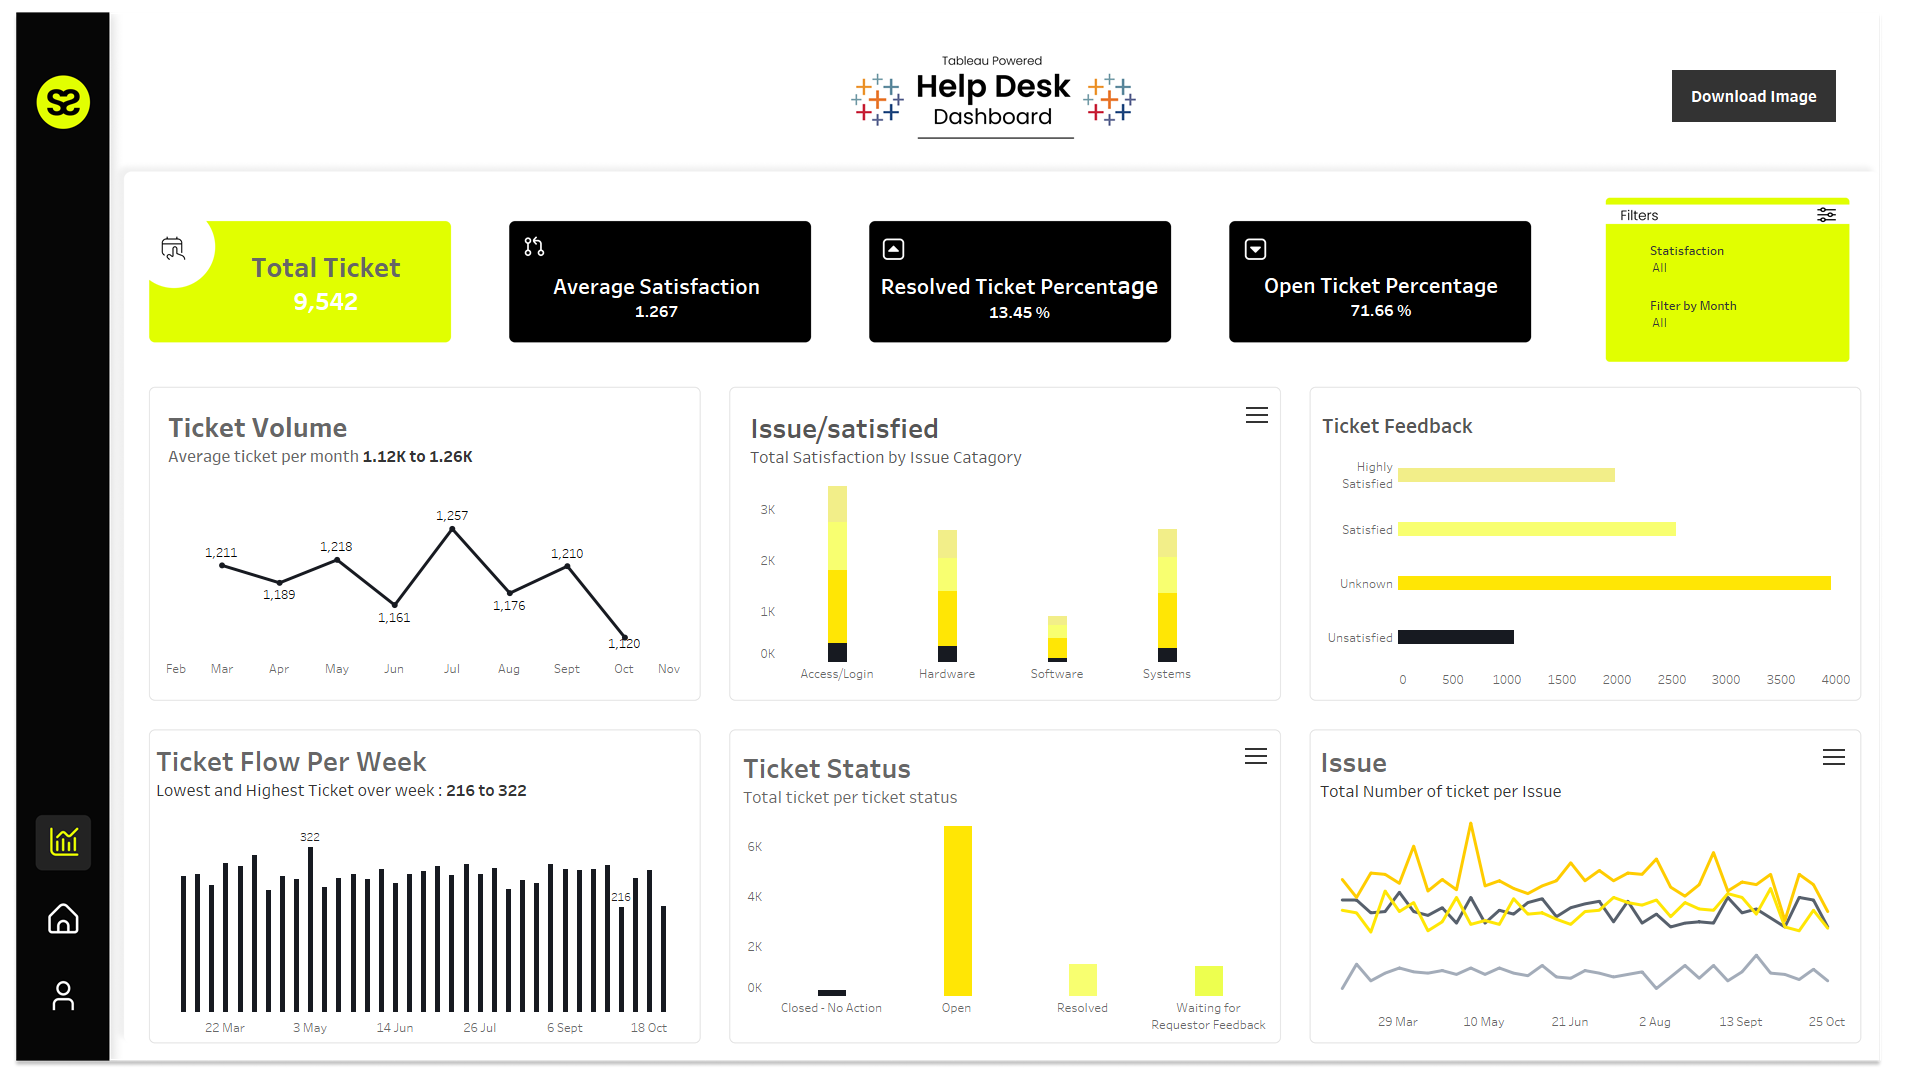

Layout of this report page (visuals, bound fields, positions):
{"tool":"tableau","page":{"name":"Dashboard 1","canvas":[1920,1080],"ordinal":0},"visuals":[{"type":"image","param":"Image/Tablue Dashboard -1.png","box":[8,8,1904,1064]},{"type":"dashboard-object","box":[1672,70,164,52]},{"type":"filter","title":"Satisfied","param":"[federated.014lvfq0gvesqk14qfeje18m9ve7].[none:statisfaction:nk]","box":[1650,241,160,119]},{"type":"worksheet","title":"Sheet 8","mark":"Automatic","box":[222,242,208,84]},{"type":"worksheet","title":"Sheet 9","mark":"Automatic","box":[820,262,399,65]},{"type":"worksheet","title":"Sheet 10","mark":"Automatic","box":[1230,264,302,59]},{"type":"worksheet","title":"Sheet 6","mark":"Automatic","box":[528,265,257,62]},{"type":"filter","title":"Category Issue","param":"[federated.014lvfq0gvesqk14qfeje18m9ve7].[mn:created_date:ok]","box":[1650,296,160,66]},{"type":"worksheet","title":"Total Ticket","mark":"Line","rows":["Calculation_1029635485391097856"],"cols":["created_date"],"box":[154,392,538,301]},{"type":"worksheet","title":"Issue/satisfied","mark":"Bar","rows":["Calculation_1029635485391097856"],"cols":["issue_category"],"box":[746,403,477,280]},{"type":"dashboard-object","box":[1245,403,24,24]},{"type":"legend","title":"Issue/satisfied","param":"[federated.014lvfq0gvesqk14qfeje18m9ve7].[none:statisfaction:nk]","box":[1094,404,173,107]},{"type":"worksheet","title":"Satisfied","mark":"Bar","rows":["statisfaction"],"cols":["statisfaction_score"],"box":[1318,405,535,289]},{"type":"worksheet","title":"Ticket Per day","mark":"Bar","rows":["Calculation_1029635485391097856"],"cols":["created_date"],"box":[152,736,544,302]},{"type":"worksheet","title":"Category Issue","mark":"Automatic","rows":["ticket_number"],"cols":["created_date"],"box":[1316,737,537,299]},{"type":"legend","title":"Category Issue","param":"[federated.014lvfq0gvesqk14qfeje18m9ve7].[none:issue_category:nk]","box":[1584,740,268,106]},{"type":"legend","title":"Sheet 3","param":"[federated.014lvfq0gvesqk14qfeje18m9ve7].[none:ticket status:nk]","box":[1062,742,208,121]},{"type":"worksheet","title":"Sheet 3","mark":"Bar","rows":["Calculation_1029635485391097856"],"cols":["ticket status"],"box":[739,743,533,293]},{"type":"dashboard-object","box":[1244,744,24,24]},{"type":"dashboard-object","box":[1822,745,24,24]}]}

Visuals, with their boxes on the page's 1920x1080 design canvas (x1, y1, x2, y2). These are canvas units, not pixel positions in the 1920x1080 screenshot, which may show the page scaled, cropped or inside an application window:
image: [left=8, top=8, right=1912, bottom=1072]
dashboard-object: [left=1672, top=70, right=1836, bottom=122]
"Satisfied" filter: [left=1650, top=241, right=1810, bottom=360]
"Sheet 8" worksheet: [left=222, top=242, right=430, bottom=326]
"Sheet 9" worksheet: [left=820, top=262, right=1219, bottom=327]
"Sheet 10" worksheet: [left=1230, top=264, right=1532, bottom=323]
"Sheet 6" worksheet: [left=528, top=265, right=785, bottom=327]
"Category Issue" filter: [left=1650, top=296, right=1810, bottom=362]
"Total Ticket" worksheet (Line marks): [left=154, top=392, right=692, bottom=693]
"Issue/satisfied" worksheet (Bar marks): [left=746, top=403, right=1223, bottom=683]
dashboard-object: [left=1245, top=403, right=1269, bottom=427]
"Issue/satisfied" legend: [left=1094, top=404, right=1267, bottom=511]
"Satisfied" worksheet (Bar marks): [left=1318, top=405, right=1853, bottom=694]
"Ticket Per day" worksheet (Bar marks): [left=152, top=736, right=696, bottom=1038]
"Category Issue" worksheet: [left=1316, top=737, right=1853, bottom=1036]
"Category Issue" legend: [left=1584, top=740, right=1852, bottom=846]
"Sheet 3" legend: [left=1062, top=742, right=1270, bottom=863]
"Sheet 3" worksheet (Bar marks): [left=739, top=743, right=1272, bottom=1036]
dashboard-object: [left=1244, top=744, right=1268, bottom=768]
dashboard-object: [left=1822, top=745, right=1846, bottom=769]
